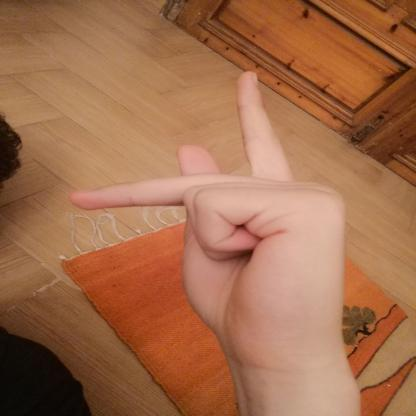DHAA: (55, 57, 377, 387)
